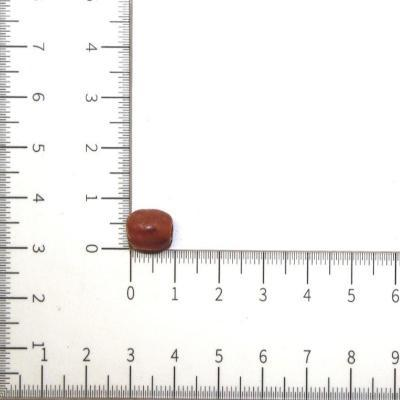archeology: (126, 209, 175, 255)
